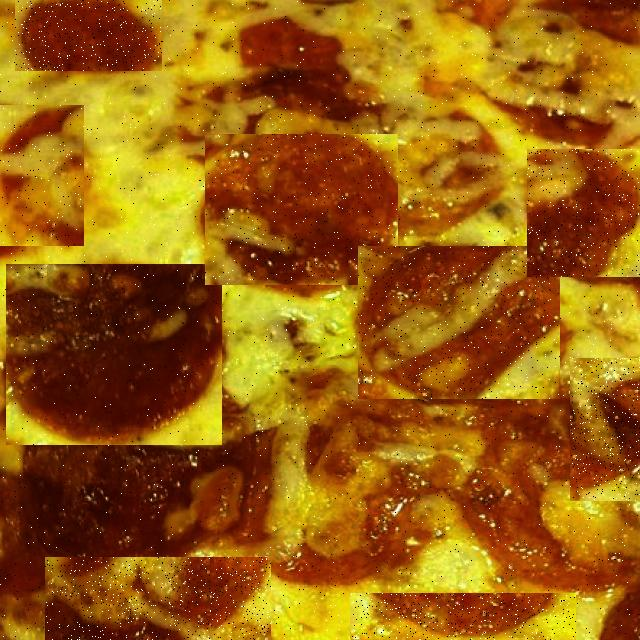Pepperoni: (6, 264, 222, 445), (358, 246, 560, 399), (205, 134, 398, 285), (45, 557, 271, 640), (527, 149, 640, 277), (0, 105, 84, 248), (350, 593, 576, 640), (15, 0, 162, 71), (570, 358, 640, 501)
Pizza: (0, 0, 640, 640)
